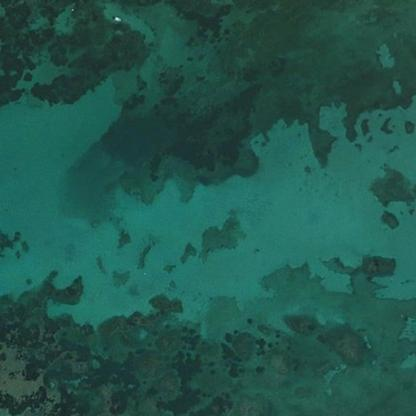ship: (110, 0, 121, 5)
